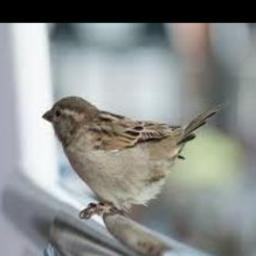Sparrow: (42, 97, 222, 219)
